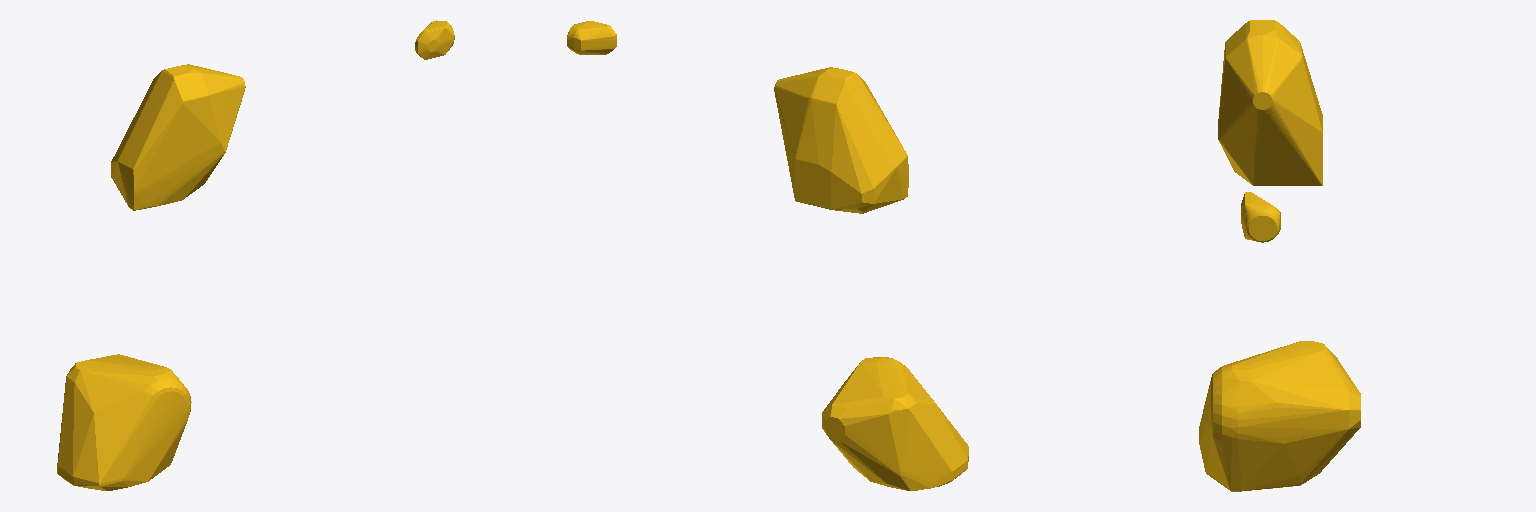
robot.urdf — fanuc_m20ia10l:
<?xml version="1.0" ?>
<!-- =================================================================================== -->
<!-- |    This document was autogenerated by xacro from urdf/m20ia10l.xacro            | -->
<!-- |    EDITING THIS FILE BY HAND IS NOT RECOMMENDED                                 | -->
<!-- =================================================================================== -->
<robot name="fanuc_m20ia10l">
  <!-- links: main serial chain -->
  <link name="base_link">
    <visual>
      <origin rpy="0 0 0" xyz="0 0 0"/>
      <geometry>
        <mesh filename="package://fanuc_m20ia_support/meshes/m20ia10l/visual/base_link.stl"/>
      </geometry>
      <material name="">
        <color rgba="0.2784313725490196 0.2784313725490196 0.2784313725490196 1.0"/>
      </material>
    </visual>
    <collision>
      <origin rpy="0 0 0" xyz="0 0 0"/>
      <geometry>
        <mesh filename="package://fanuc_m20ia_support/meshes/m20ia10l/collision/base_link.stl"/>
      </geometry>
    </collision>
  </link>
  <link name="link_1">
    <visual>
      <origin rpy="0 0 0" xyz="0 0 0"/>
      <geometry>
        <mesh filename="package://fanuc_m20ia_support/meshes/m20ia10l/visual/link_1.stl"/>
      </geometry>
      <material name="">
        <color rgba="0.96 0.76 0.13 1.0"/>
      </material>
    </visual>
    <collision>
      <origin rpy="0 0 0" xyz="0 0 0"/>
      <geometry>
        <mesh filename="package://fanuc_m20ia_support/meshes/m20ia10l/collision/link_1.stl"/>
      </geometry>
    </collision>
  </link>
  <link name="link_2">
    <visual>
      <origin rpy="0 0 0" xyz="0 0 0"/>
      <geometry>
        <mesh filename="package://fanuc_m20ia_support/meshes/m20ia10l/visual/link_2.stl"/>
      </geometry>
      <material name="">
        <color rgba="0.96 0.76 0.13 1.0"/>
      </material>
    </visual>
    <collision>
      <origin rpy="0 0 0" xyz="0 0 0"/>
      <geometry>
        <mesh filename="package://fanuc_m20ia_support/meshes/m20ia10l/collision/link_2.stl"/>
      </geometry>
    </collision>
  </link>
  <link name="link_3">
    <visual>
      <origin rpy="0 0 0" xyz="0 0 0"/>
      <geometry>
        <mesh filename="package://fanuc_m20ia_support/meshes/m20ia10l/visual/link_3.stl"/>
      </geometry>
      <material name="">
        <color rgba="0.96 0.76 0.13 1.0"/>
      </material>
    </visual>
    <collision>
      <origin rpy="0 0 0" xyz="0 0 0"/>
      <geometry>
        <mesh filename="package://fanuc_m20ia_support/meshes/m20ia10l/collision/link_3.stl"/>
      </geometry>
    </collision>
  </link>
  <link name="link_4">
    <visual>
      <origin rpy="0 0 0" xyz="0 0 0"/>
      <geometry>
        <mesh filename="package://fanuc_m20ia_support/meshes/m20ia10l/visual/link_4.stl"/>
      </geometry>
      <material name="">
        <color rgba="0.96 0.76 0.13 1.0"/>
      </material>
    </visual>
    <collision>
      <origin rpy="0 0 0" xyz="0 0 0"/>
      <geometry>
        <mesh filename="package://fanuc_m20ia_support/meshes/m20ia10l/collision/link_4.stl"/>
      </geometry>
    </collision>
  </link>
  <link name="link_5">
    <visual>
      <origin rpy="0 0 0" xyz="0 0 0"/>
      <geometry>
        <mesh filename="package://fanuc_m20ia_support/meshes/m20ia10l/visual/link_5.stl"/>
      </geometry>
      <material name="">
        <color rgba="0.96 0.76 0.13 1.0"/>
      </material>
    </visual>
    <collision>
      <origin rpy="0 0 0" xyz="0 0 0"/>
      <geometry>
        <mesh filename="package://fanuc_m20ia_support/meshes/m20ia10l/collision/link_5.stl"/>
      </geometry>
    </collision>
  </link>
  <link name="link_6">
    <visual>
      <origin rpy="0 0 0" xyz="0 0 0"/>
      <geometry>
        <mesh filename="package://fanuc_m20ia_support/meshes/m20ia10l/visual/link_6.stl"/>
      </geometry>
      <material name="">
        <color rgba="0.15 0.15 0.15 1.0"/>
      </material>
    </visual>
    <collision>
      <origin rpy="0 0 0" xyz="0 0 0"/>
      <geometry>
        <mesh filename="package://fanuc_m20ia_support/meshes/m20ia10l/collision/link_6.stl"/>
      </geometry>
    </collision>
  </link>
  <!-- joints: main serial chain -->
  <joint name="joint_1" type="revolute">
    <origin rpy="0 0 0" xyz="0 0 0.525"/>
    <parent link="base_link"/>
    <child link="link_1"/>
    <axis xyz="0 0 1"/>
    <limit effort="0" lower="-3.228859" upper="3.228859" velocity="3.403392"/>
  </joint>
  <joint name="joint_2" type="revolute">
    <origin rpy="0 0 0" xyz="0.150 0 0"/>
    <parent link="link_1"/>
    <child link="link_2"/>
    <axis xyz="0 1 0"/>
    <limit effort="0" lower="-1.745329" upper="2.792527" velocity="3.054326"/>
  </joint>
  <joint name="joint_3" type="revolute">
    <origin rpy="0 0 0" xyz="0 0 0.790"/>
    <parent link="link_2"/>
    <child link="link_3"/>
    <axis xyz="0 -1 0"/>
    <limit effort="0" lower="-3.228859" upper="4.810826" velocity="3.141593"/>
  </joint>
  <joint name="joint_4" type="revolute">
    <origin rpy="0 0 0" xyz="0 0 0.250"/>
    <parent link="link_3"/>
    <child link="link_4"/>
    <axis xyz="-1 0 0"/>
    <limit effort="0" lower="-3.490658" upper="3.490658" velocity="6.981317"/>
  </joint>
  <joint name="joint_5" type="revolute">
    <origin rpy="0 0 0" xyz="1.040 0 0"/>
    <parent link="link_4"/>
    <child link="link_5"/>
    <axis xyz="0 -1 0"/>
    <limit effort="0" lower="-2.443461" upper="2.443461" velocity="6.981317"/>
  </joint>
  <joint name="joint_6" type="revolute">
    <origin rpy="0 0 0" xyz="0.100 0 0"/>
    <parent link="link_5"/>
    <child link="link_6"/>
    <axis xyz="-1 0 0"/>
    <limit effort="0" lower="-4.712389" upper="4.712389" velocity="10.471980"/>
  </joint>
  <!-- ROS-Industrial 'base' frame: base_link to Fanuc World Coordinates transform -->
  <link name="base"/>
  <joint name="base_link-base" type="fixed">
    <origin rpy="0 0 0" xyz="0 0 0.525"/>
    <parent link="base_link"/>
    <child link="base"/>
  </joint>
  <!-- ROS-Industrial 'flange' frame: attachment point for EEF models -->
  <link name="flange"/>
  <joint name="joint_6-flange" type="fixed">
    <origin rpy="0 0 0" xyz="0 0 0"/>
    <parent link="link_6"/>
    <child link="flange"/>
  </joint>
  <!-- ROS-Industrial 'tool0' frame: all-zeros tool frame -->
  <link name="tool0"/>
  <joint name="link_6-tool0" type="fixed">
    <origin rpy="3.141592653589793 -1.5707963267948966 0" xyz="0 0 0"/>
    <parent link="flange"/>
    <child link="tool0"/>
  </joint>
</robot>

--- What the picture shows (computed from the rendered views, not written in the file) ---
3 views of the same robot in one strip: view 1: azimuth 30°, elevation 25°; view 2: azimuth 150°, elevation 25°; view 3: azimuth 270°, elevation 25° (orthographic).
Robot: fanuc_m20ia10l — 10 links, 9 joints (6 revolute, 3 fixed); root link base_link; default pose: every joint at zero.
Links seen in each view (by area): view 1: link_1, link_3, link_5; view 2: link_3, link_1, link_5; view 3: link_1, link_3, link_5.
Boxes of the visible links, x1,y1,x2,y2 form: link_1: (57, 354, 191, 490); link_3: (111, 64, 245, 210); link_5: (415, 20, 454, 59); link_3: (774, 67, 908, 213); link_1: (822, 357, 968, 490); link_5: (567, 21, 616, 54); link_1: (1199, 341, 1360, 491); link_3: (1218, 20, 1322, 185); link_5: (1241, 192, 1280, 242).
Size in the robot's own frame: 1.45 by 0.4146 by 1.36 metres.
3 mesh visuals loaded from 7 distinct referenced files (3 binary STL); not drawn: 4 (reference not matched to a file when rendering).